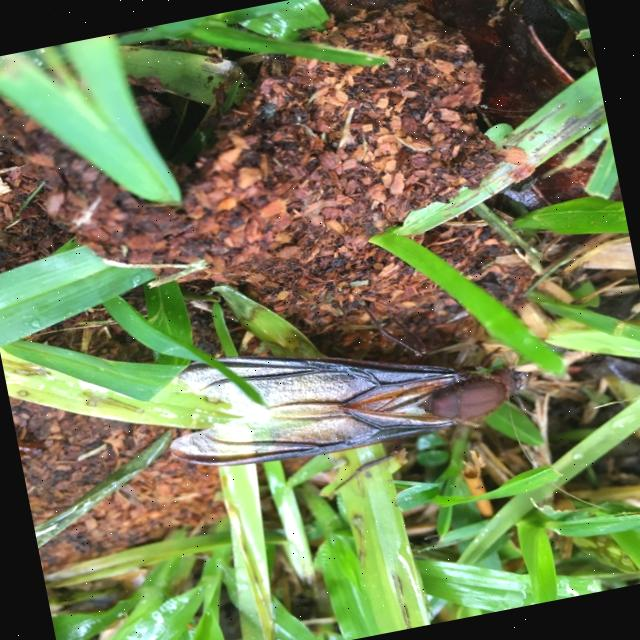Alive-Female-Alate: (146, 262, 541, 486)
